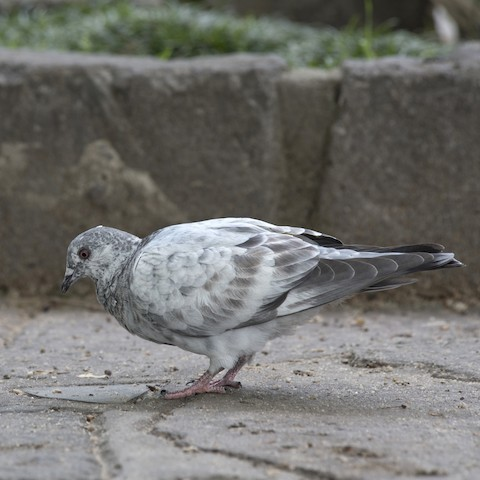pigeon: (54, 207, 468, 402)
